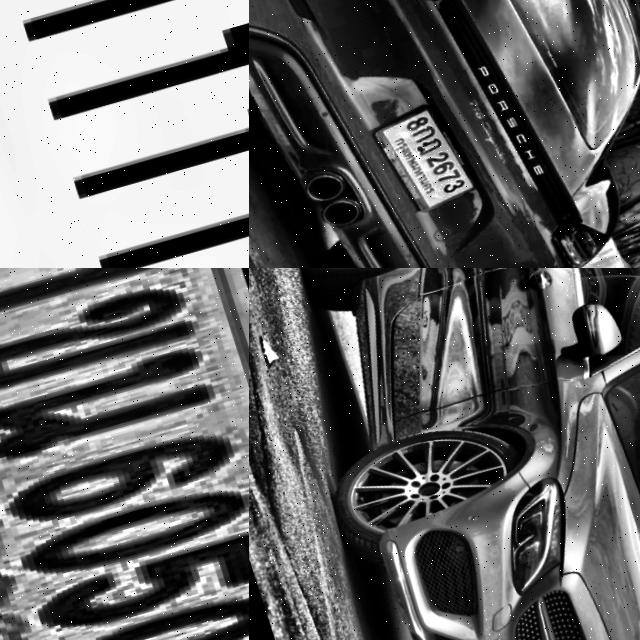license-plate: (0, 268, 249, 640), (0, 0, 249, 268), (358, 92, 483, 225)
